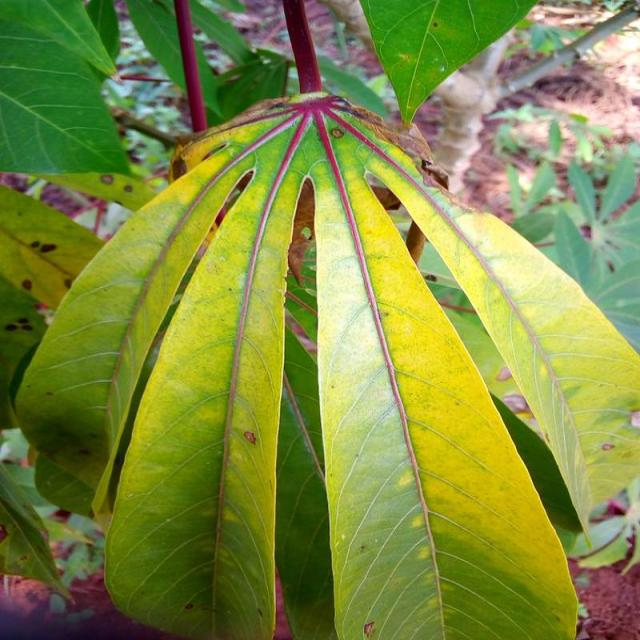cassava leaf: (13, 89, 637, 638)
